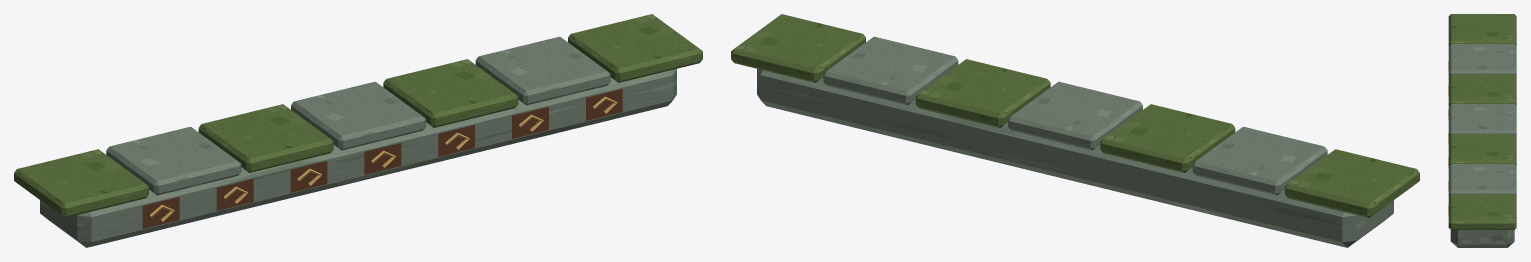
Rendered from ruin_lintel.glb.
The picture shows the model from 3 angles, left to right: view 1: azimuth 30°, elevation 25°; view 2: azimuth 150°, elevation 25°; view 3: azimuth 270°, elevation 25°; orthographic projection. The views are drawn at different scales.
Parts seen in each view (by area): view 1: LintelCore; view 2: LintelCore; view 3: LintelCore.
Boxes of the visible parts, <box> form: LintelCore: <box>14,14,702,247</box>; LintelCore: <box>731,14,1419,247</box>; LintelCore: <box>1448,14,1516,247</box>.
Bounding box in the file's own units: 6.95 × 0.565 × 0.9671.
4 materials, 3 textured.
